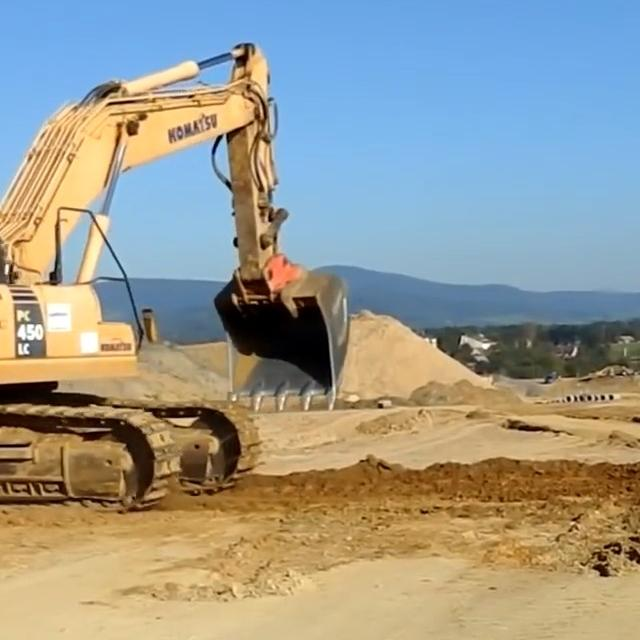Excavator: (0, 36, 351, 509)
